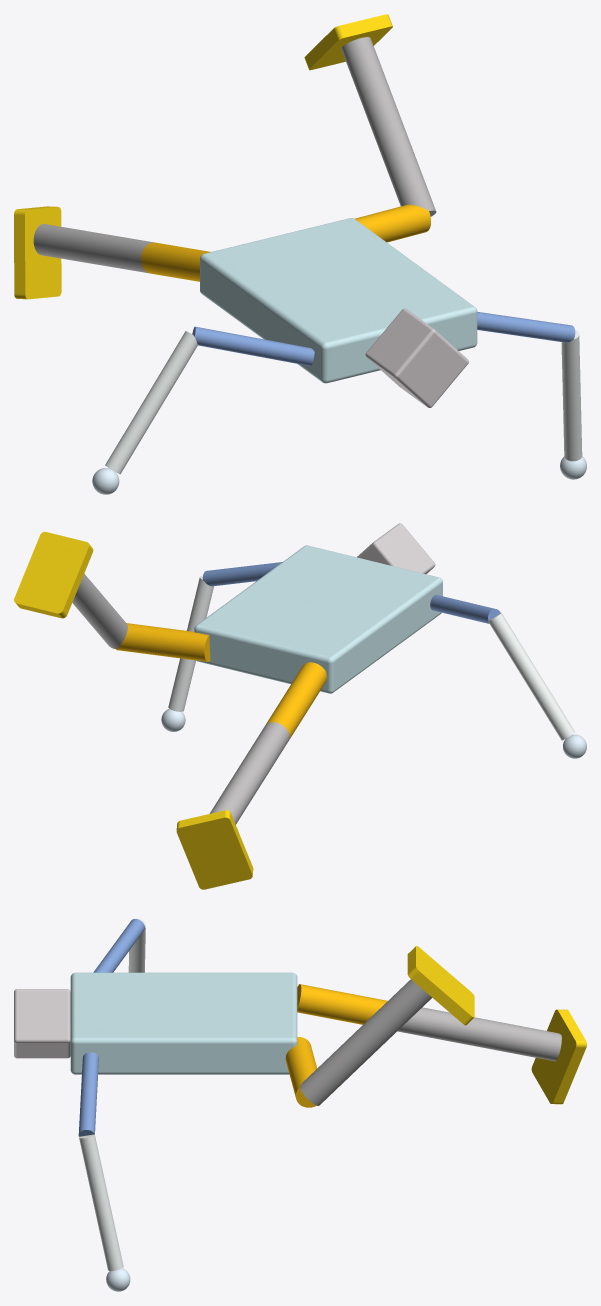
File: Mockup assembly-transformed.glb
The picture shows the model from 3 angles, top to bottom: view 1: azimuth 30°, elevation 25°; view 2: azimuth 150°, elevation 25°; view 3: azimuth 270°, elevation 25°; orthographic projection. The views are drawn at different scales.
Parts seen in each view (by area): view 1: LeftUpperLeg; view 2: LeftUpperLeg; view 3: LeftUpperLeg.
Part boxes in pixels (x1,y1,x2,y2): LeftUpperLeg: [14, 14, 586, 494]; LeftUpperLeg: [14, 523, 586, 889]; LeftUpperLeg: [14, 918, 586, 1291].
Size of the model in its own units: 0.6182 by 0.428 by 0.7077.
Materials: 1 (1 with a texture image).
